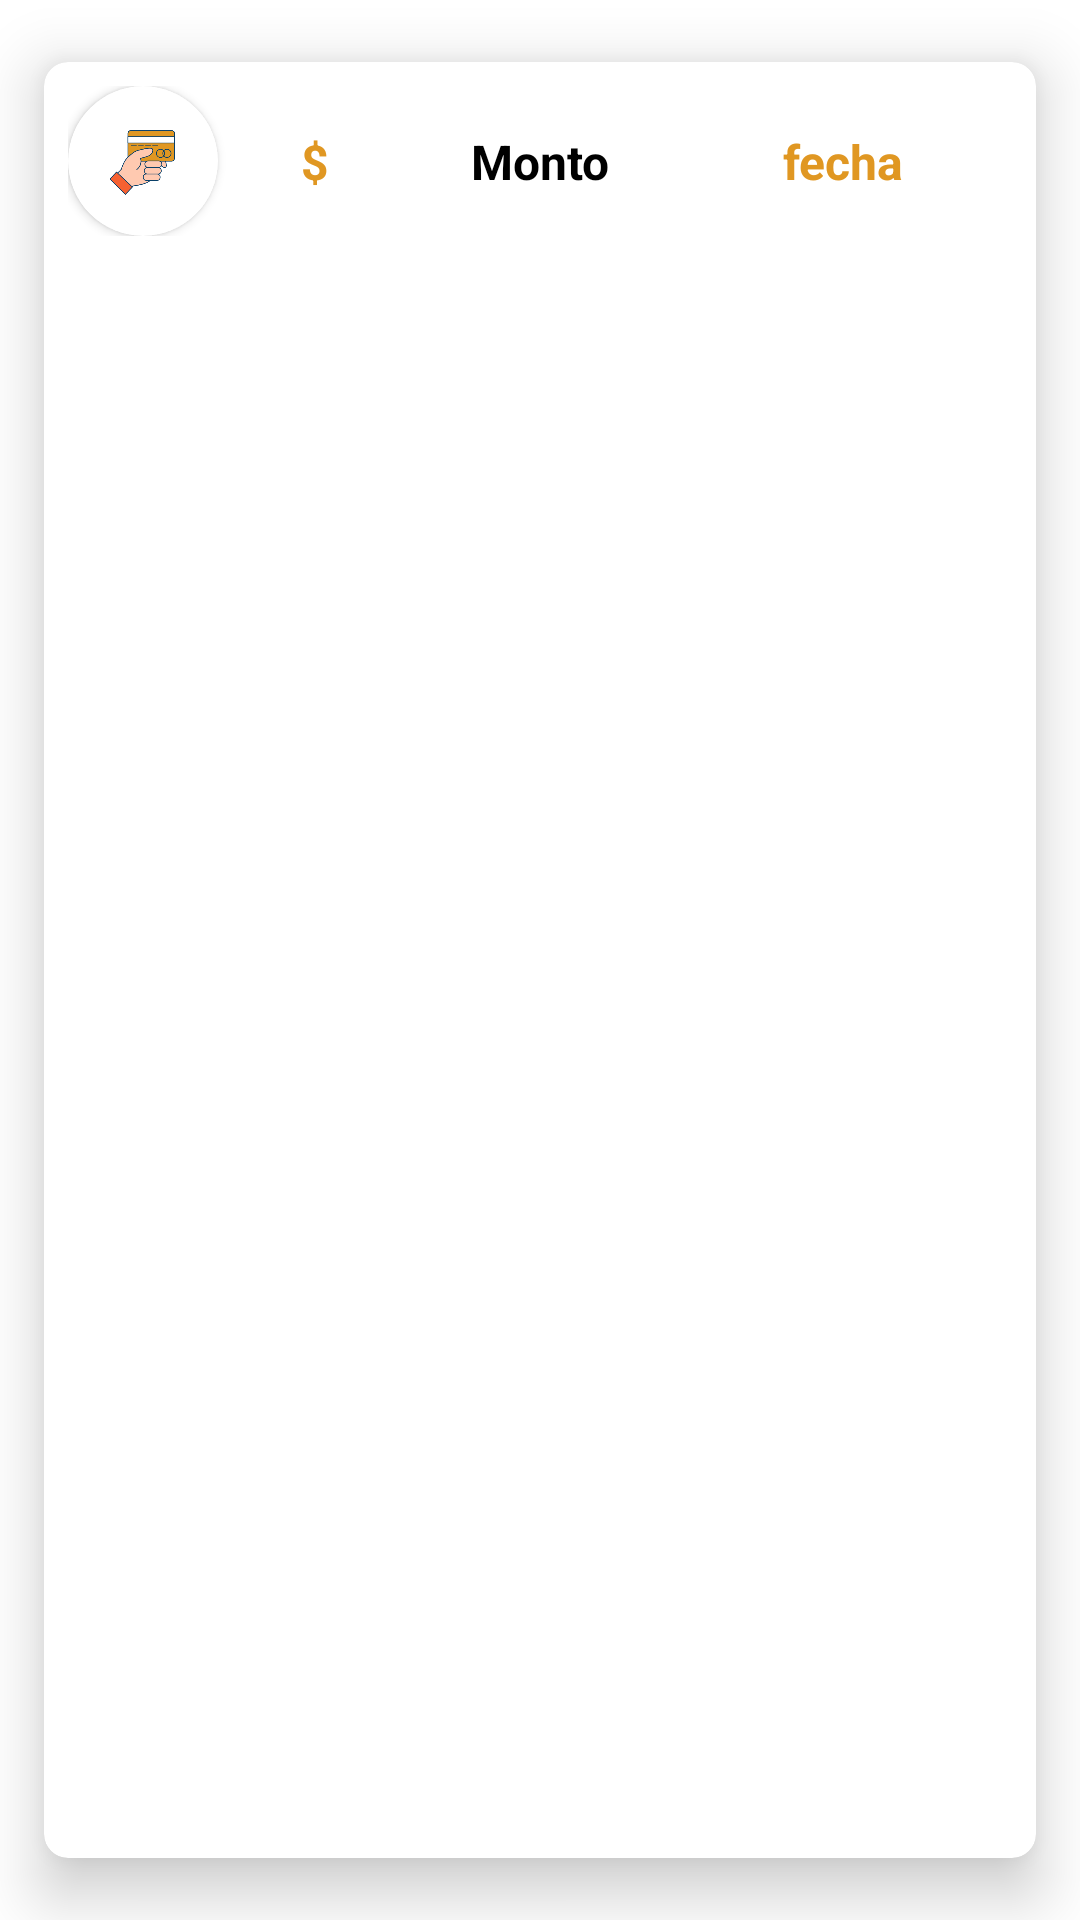

Where to tap for icons on this 1080px x 1920px app screen, as point (x, y):
card payment: point (121, 165)
